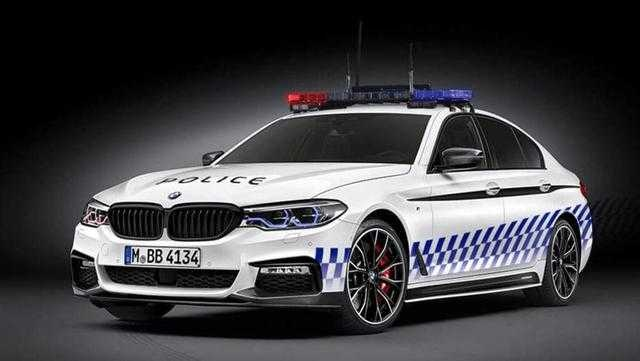Police Car: (60, 74, 591, 352)
